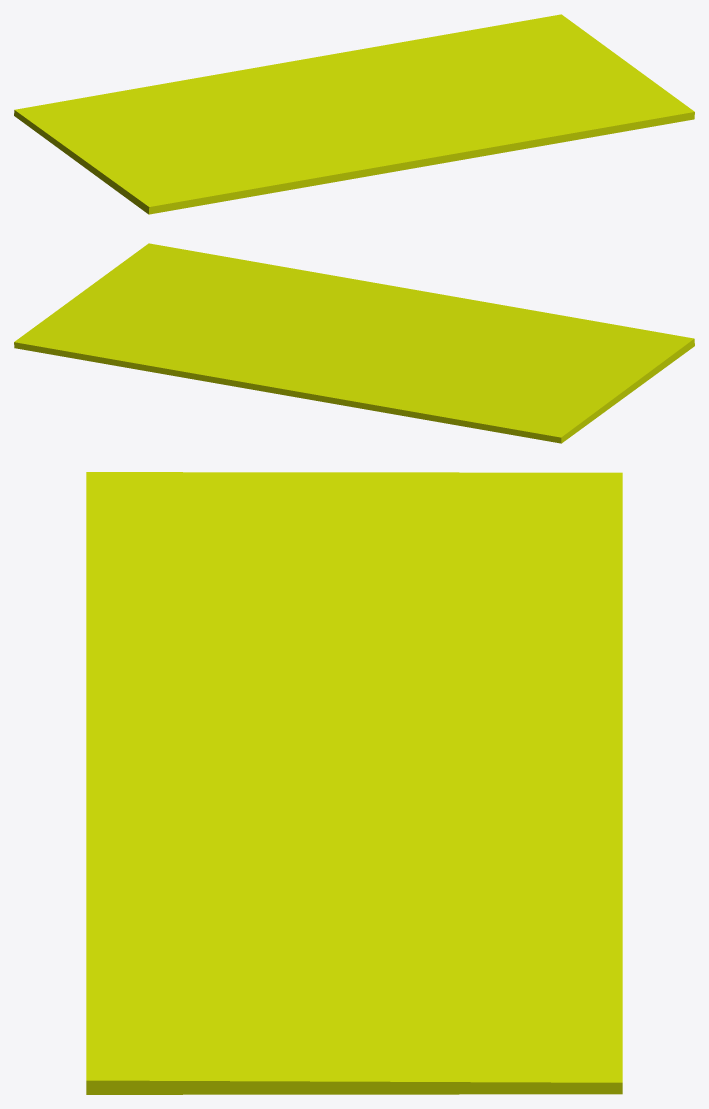
File: Cabinet_Under.fbx
3 renders of one model, top to bottom at view 1: azimuth 30°, elevation 25°; view 2: azimuth 150°, elevation 25°; view 3: azimuth 270°, elevation 25°, orthographic. The views are drawn at different scales.
Visible parts, largest first — view 1: Cabinet_Under; view 2: Cabinet_Under; view 3: Cabinet_Under.
Boxes of the visible parts, x1,y1,x2,y2 form: Cabinet_Under: (14, 14, 694, 214); Cabinet_Under: (14, 243, 694, 443); Cabinet_Under: (86, 472, 622, 1094).
Size of the model in its own units: 131 by 10.38 by 55.65.
